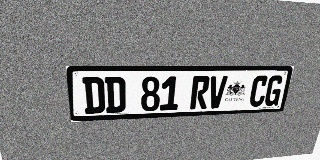1: (160, 76, 180, 111)
8: (141, 76, 161, 112)
C: (248, 75, 269, 107)
D: (82, 77, 105, 114), (105, 77, 126, 113)
G: (263, 75, 285, 106)
R: (190, 76, 210, 109)
V: (207, 76, 228, 109)
